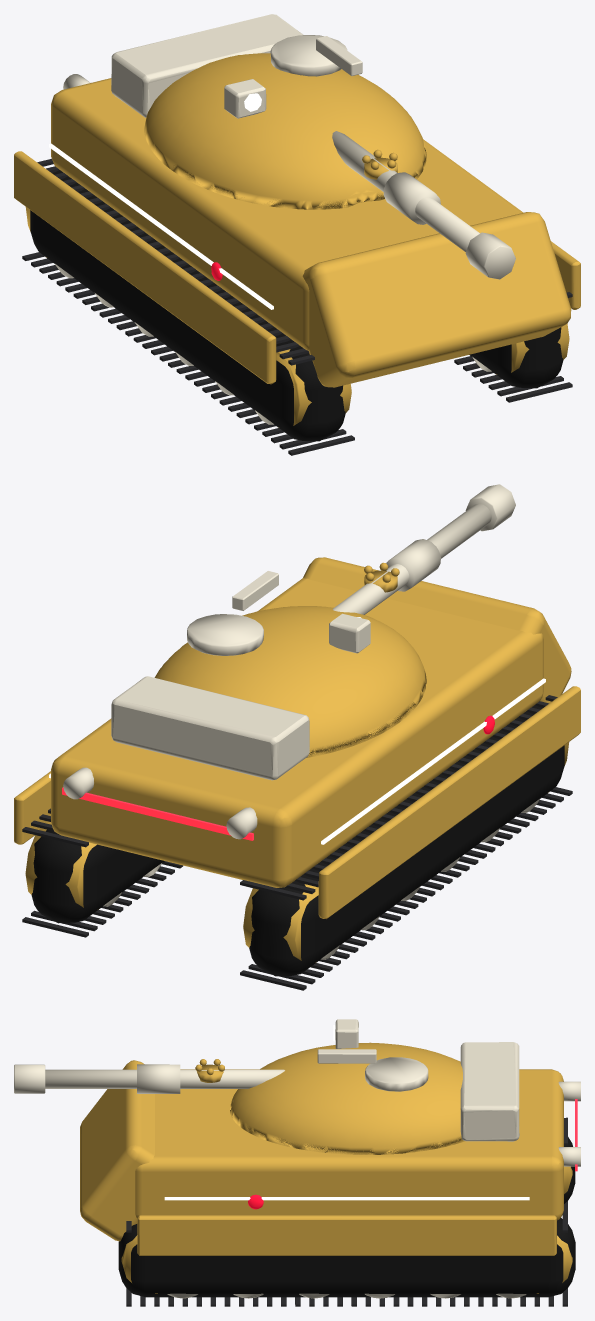
Rendered from kampvogn_guld.glb.
The picture shows the model from 3 angles, top to bottom: view 1: azimuth 30°, elevation 25°; view 2: azimuth 150°, elevation 25°; view 3: azimuth 270°, elevation 25°; orthographic projection. The views are drawn at different scales.
Visible parts, largest first — view 1: krop_net; view 2: krop_net; view 3: krop_net.
Part boxes in pixels (<box>): krop_net: <box>14,14,580,455</box>; krop_net: <box>14,484,580,990</box>; krop_net: <box>14,1019,580,1306</box>.
Size of the model in its own units: 1.17 by 0.937 by 2.23.
